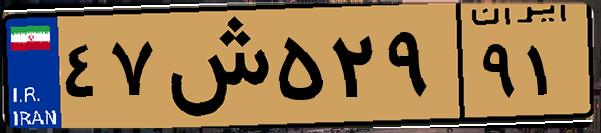1: (525, 38, 570, 115)
2: (330, 28, 385, 110)
4: (57, 26, 110, 100)
5: (270, 28, 330, 110)
7: (110, 28, 158, 98)
9: (385, 28, 445, 110), (475, 38, 525, 113)
ش: (158, 12, 270, 120)
